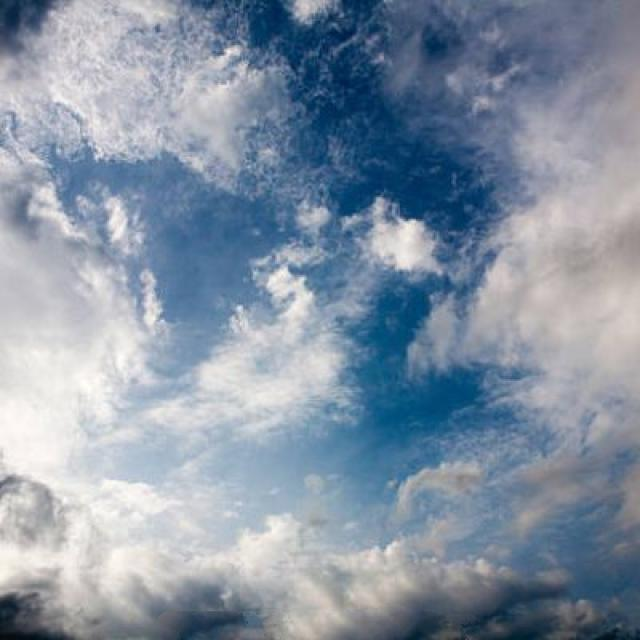Ns: (1, 77, 640, 623)
